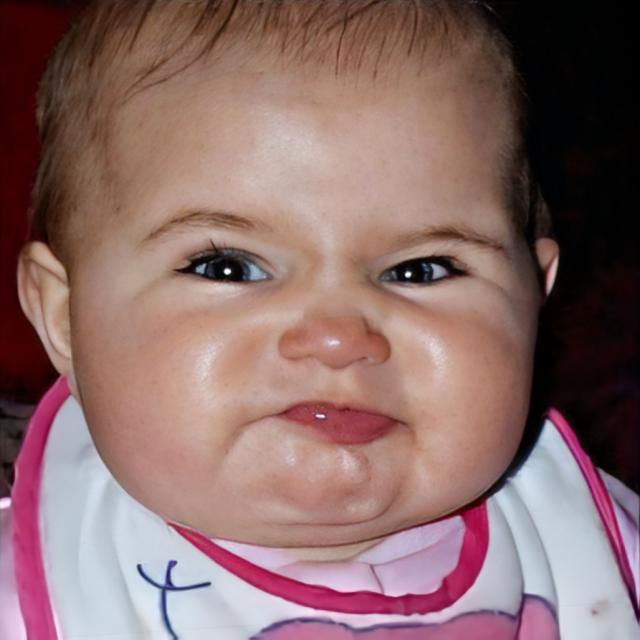disgust: (68, 0, 540, 548)
